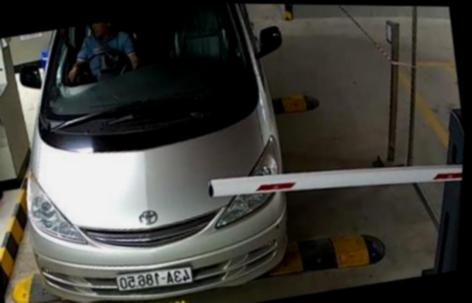License_Plate: (121, 252, 200, 293)
